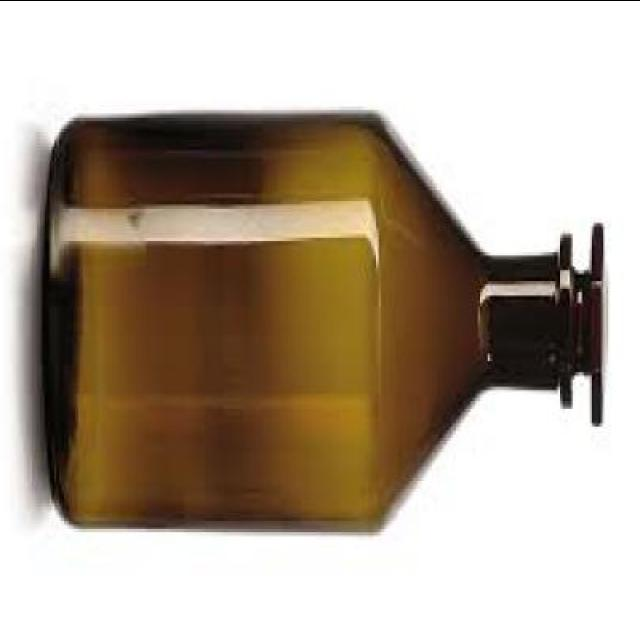kaca: (44, 106, 602, 532)
